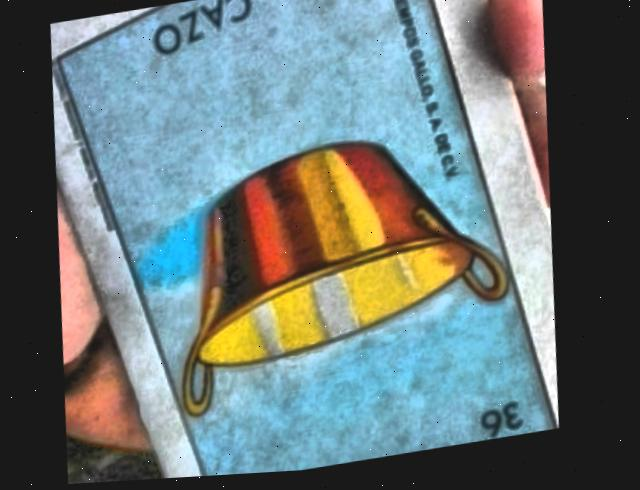El Cazo: (57, 0, 559, 479)
